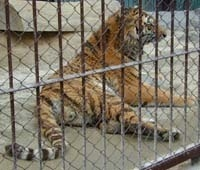tigre: (7, 5, 186, 159)
